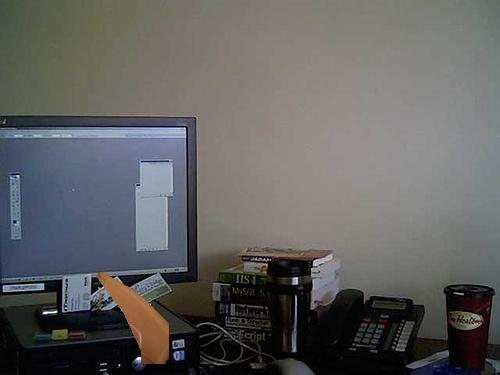tampered: (98, 272, 169, 364)
